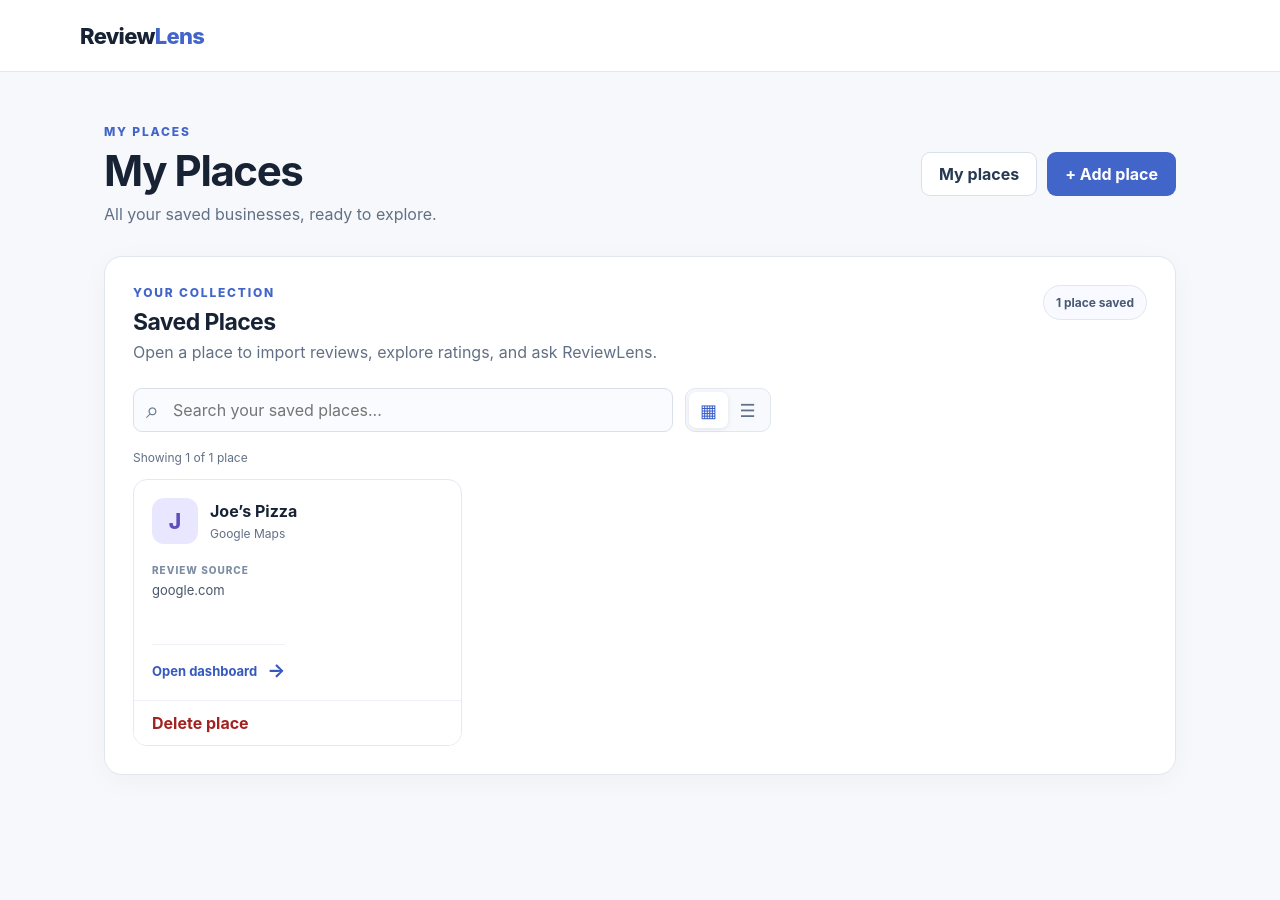
Scenario: App › uses a readable fallback when deletion rejects with a non-Error
Click the button with aria-label "Delete Joe’s Pizza": (200, 723) [134,700,461,745]
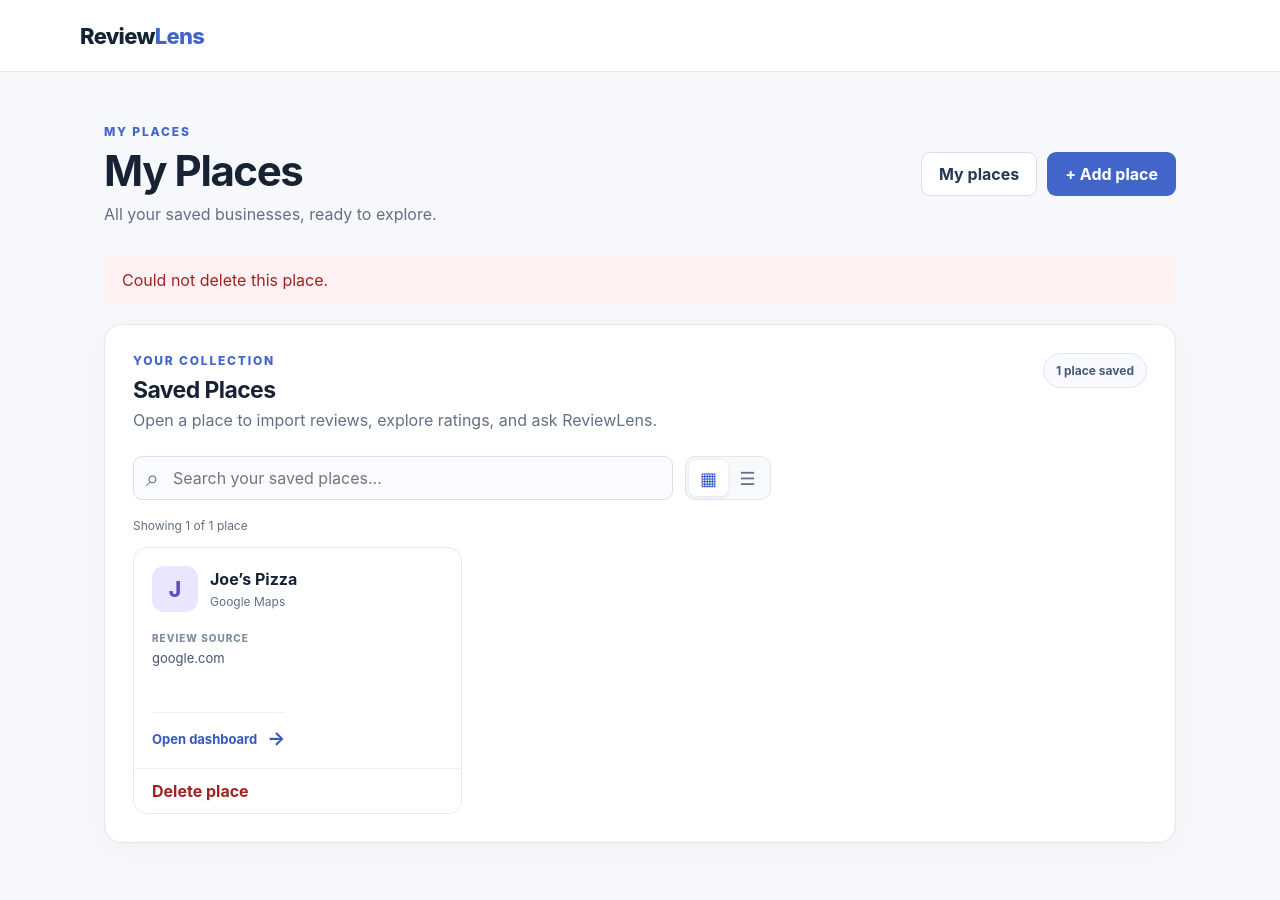
Check: the button with aria-label "Open Joe’s Pizza dashboard" is shown, box [134,548,461,768]
Check: the message "Could not delete this place." is shown, box [104,256,1176,304]
